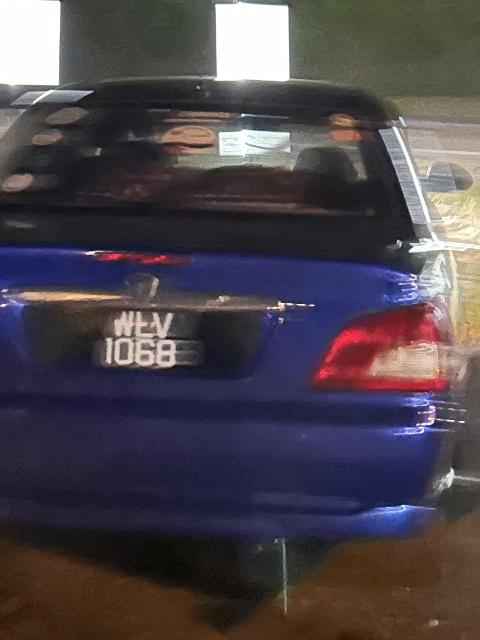License_Plate: (42, 308, 240, 377)
car: (1, 76, 477, 541)
